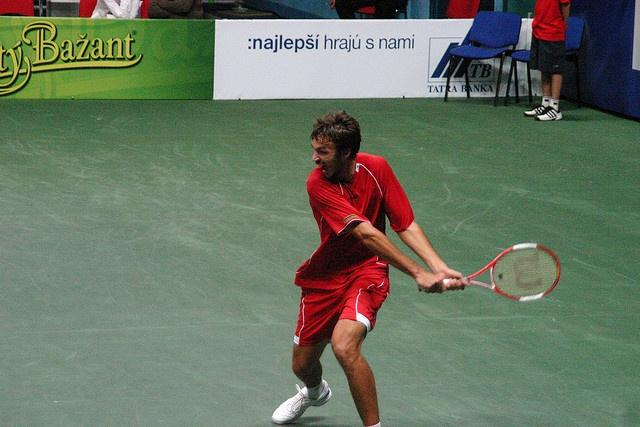Kursi: (442, 10, 521, 105)
